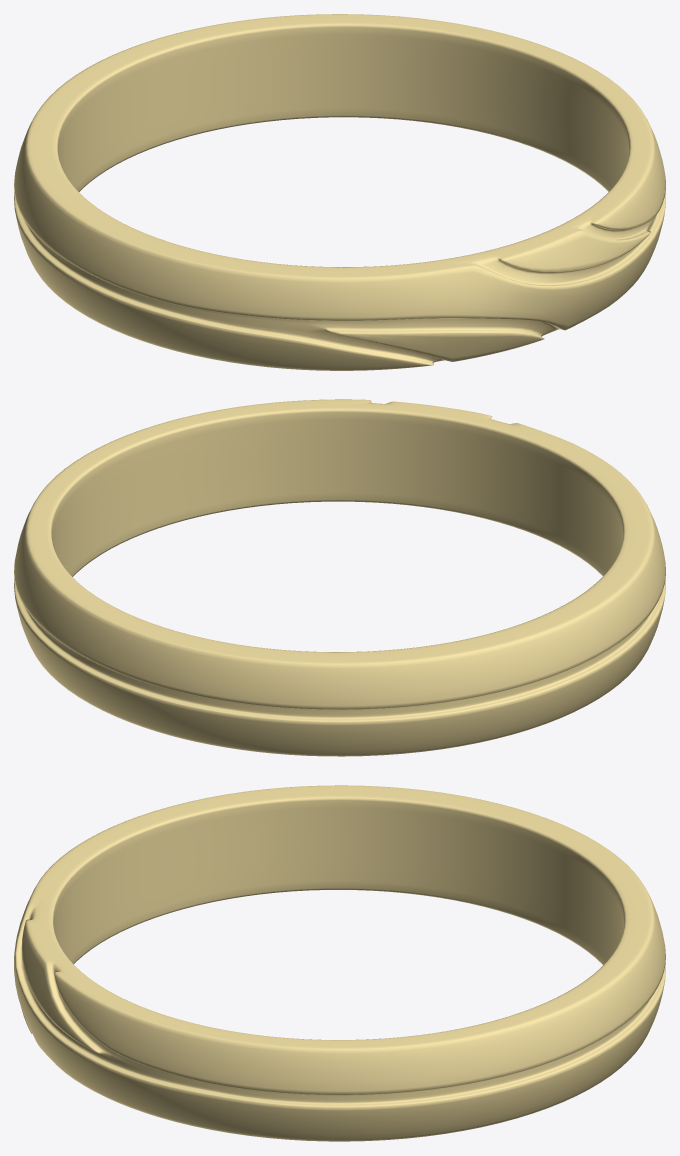
3 views of the same model, one above another, from view 1: azimuth 30°, elevation 25°; view 2: azimuth 150°, elevation 25°; view 3: azimuth 270°, elevation 25° (orthographic).
Visible parts, largest first — view 1: Base_Mesh, Engraving_Mesh; view 2: Base_Mesh, Engraving_Mesh; view 3: Base_Mesh, Engraving_Mesh.
Part boxes in pixels (bbox=[...]): Base_Mesh: bbox=[14, 14, 665, 370]; Engraving_Mesh: bbox=[57, 27, 629, 191]; Base_Mesh: bbox=[14, 399, 665, 756]; Engraving_Mesh: bbox=[51, 412, 623, 575]; Base_Mesh: bbox=[14, 785, 665, 1141]; Engraving_Mesh: bbox=[53, 800, 624, 964].
Size of the model in its own units: 2.54 by 0.4 by 2.54.
